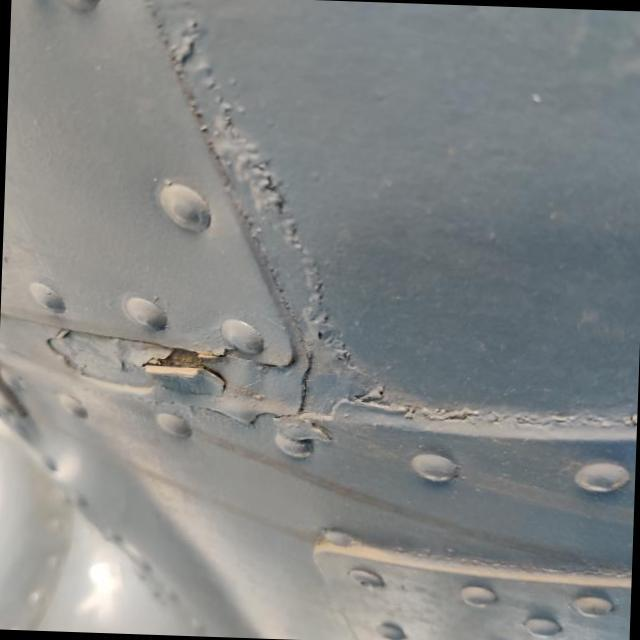Rupture: (124, 331, 256, 414)
